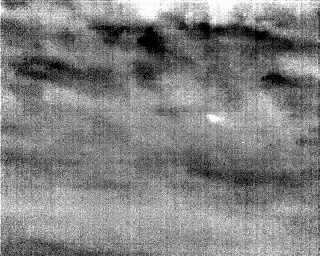BIRD: (205, 110, 229, 128)
